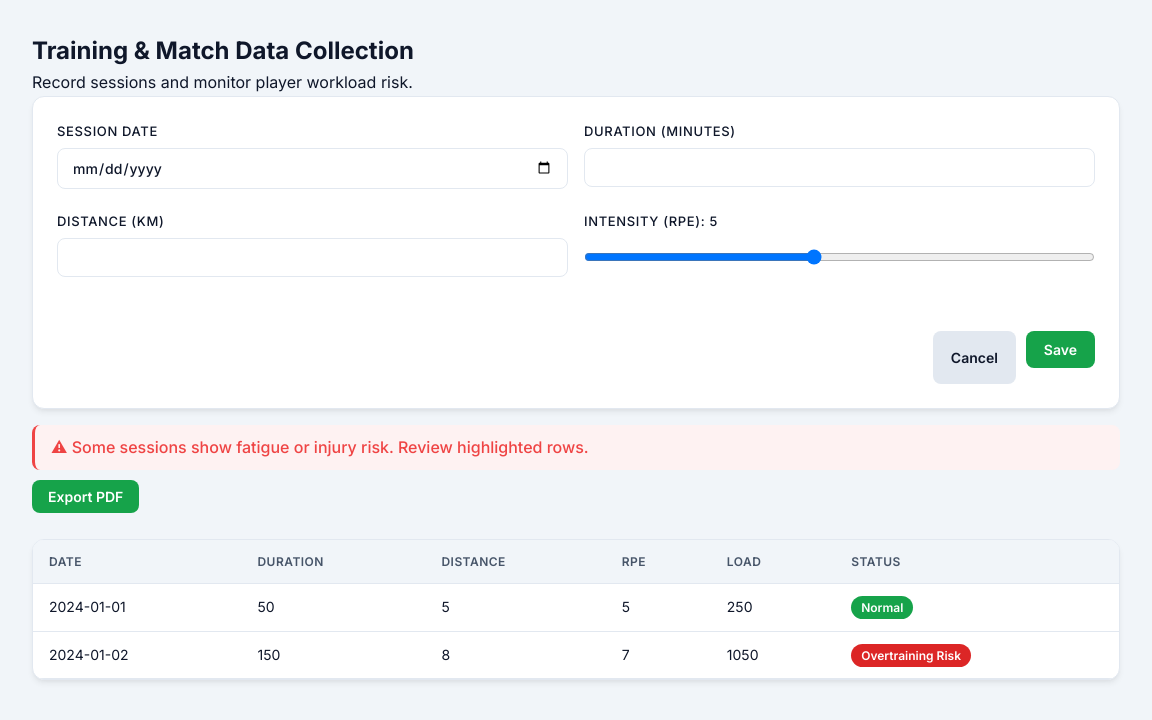
Scenario: TrainingSessions Component › reset form on cancel
Type "2024-01-05" into the date field labelled "Session Date".
click(312, 168); type("2024-01-05")  # box [57,148,568,189]
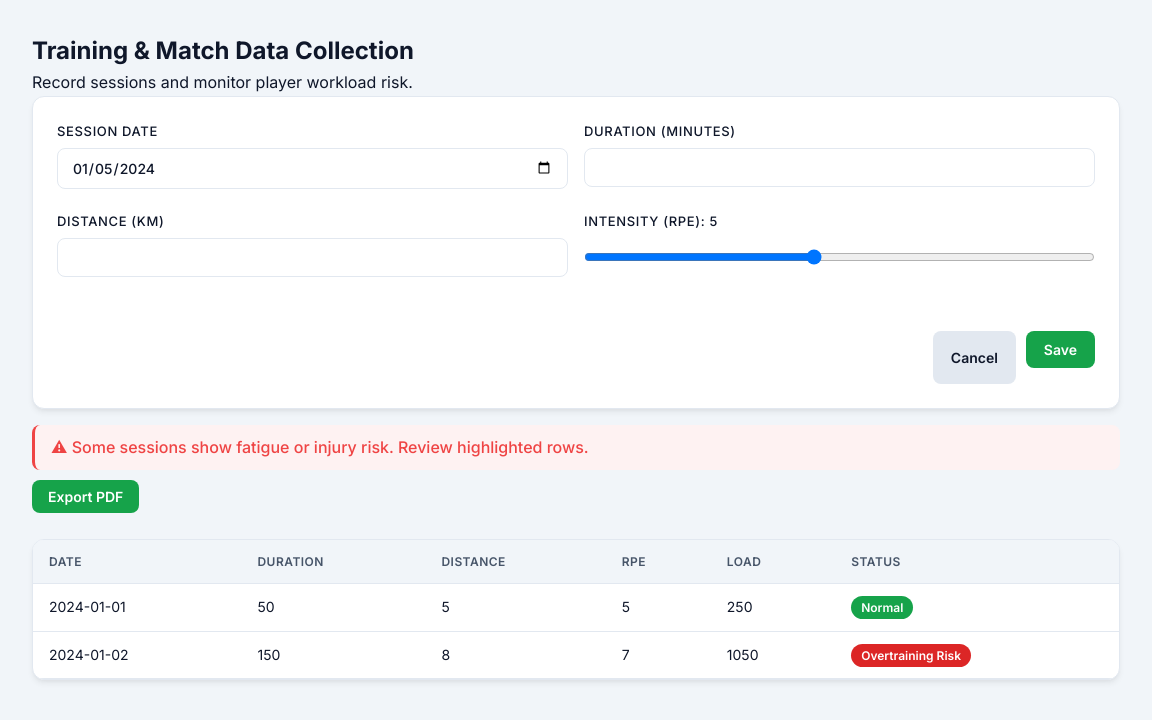
Click the button "Cancel".
click(974, 357)  # box [933,331,1016,384]
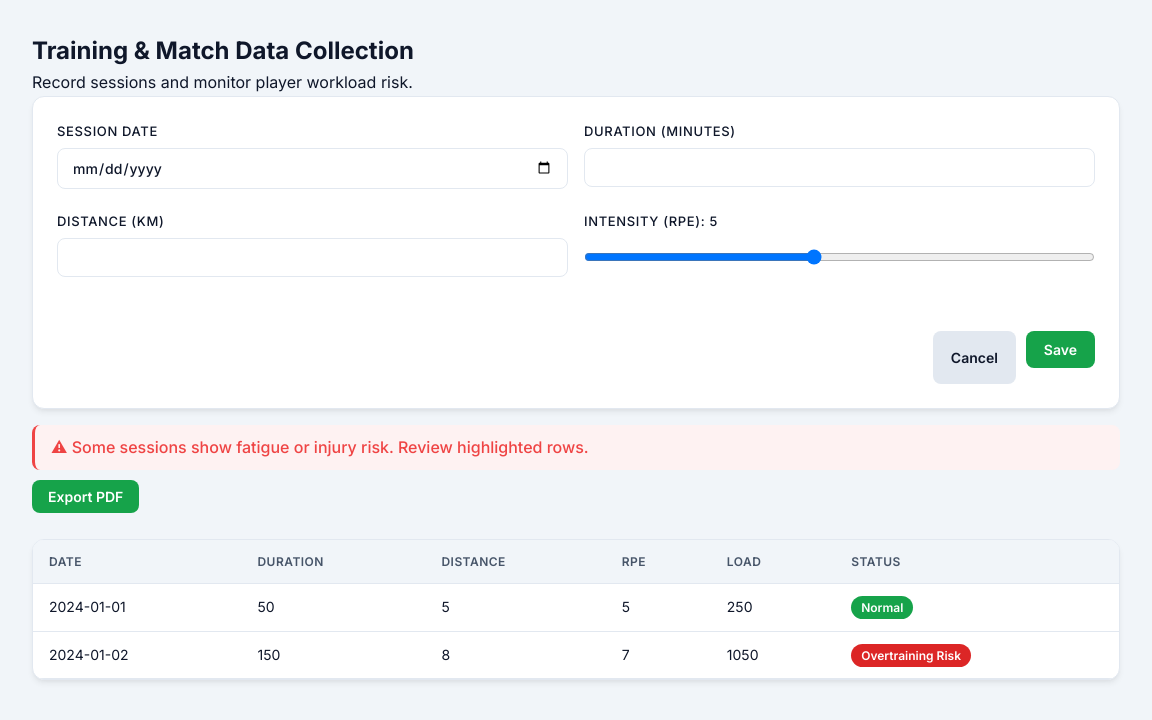
Now the date field labelled "Session Date" is empty, box [57,148,568,189]
